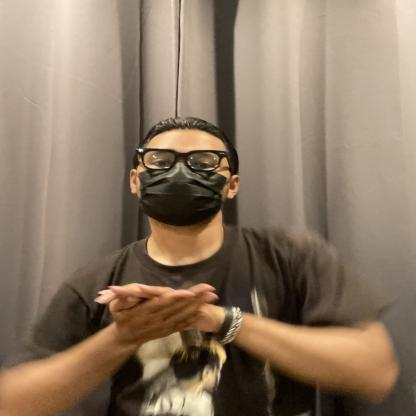Love: (52, 255, 294, 365)
